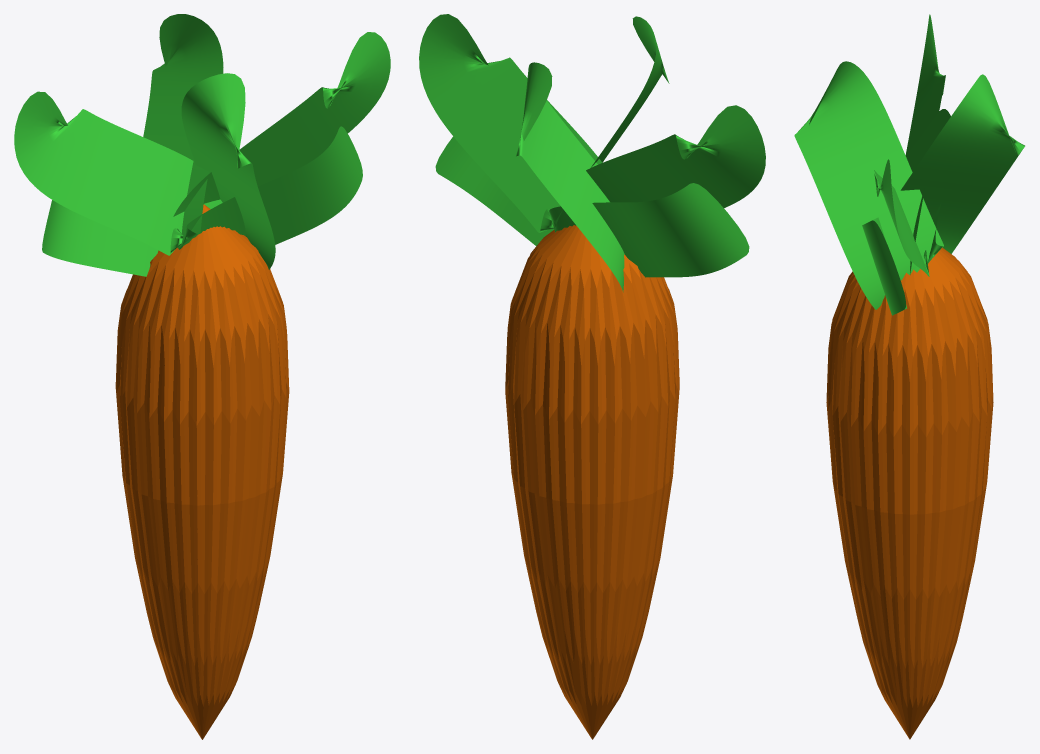
File: carrot.fbx
3 views of the same model, side by side, from view 1: azimuth 30°, elevation 25°; view 2: azimuth 150°, elevation 25°; view 3: azimuth 270°, elevation 25° (orthographic). The views are drawn at different scales.
Visible parts, largest first — view 1: Carrot; view 2: Carrot; view 3: Carrot.
Boxes of the visible parts, x1=… form: Carrot: x1=14, y1=14, x2=390, y2=739; Carrot: x1=419, y1=14, x2=765, y2=739; Carrot: x1=794, y1=14, x2=1024, y2=739.
Size of the model in its own units: 208 by 384 by 120.
